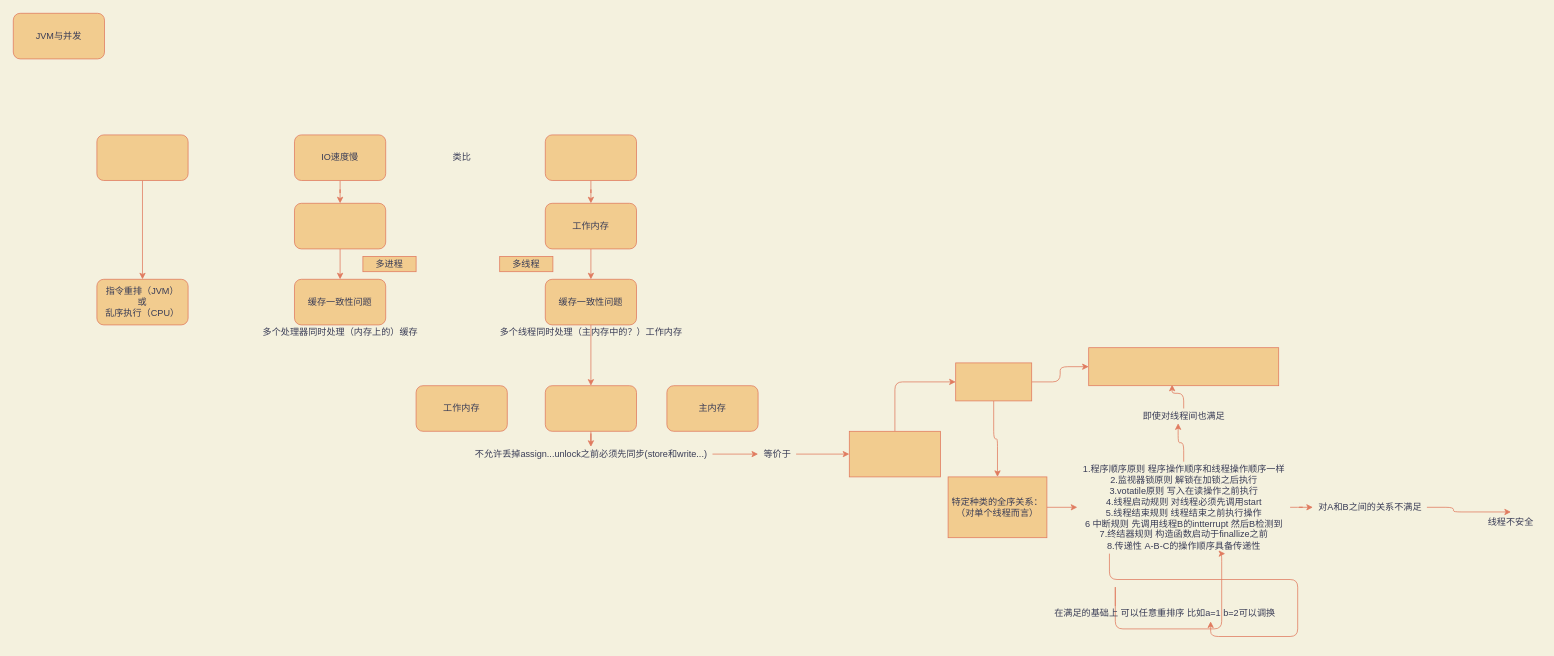
The diagram is 1554 pixels wide and 656 high, and some of its shapes have lost their labels. Each missing label, with the box of its shape:
happens-before: (849, 431, 940, 477)
协议原则 8种操作(lock read use store等): (545, 385, 636, 431)
如果操作B的线程想看到操作A A/B必须满足happens-before关系: (1088, 347, 1279, 386)
对偏序关系进行了规定: (955, 362, 1032, 401)
缓存: (294, 203, 386, 249)
高效利用CPU: (96, 134, 188, 180)
